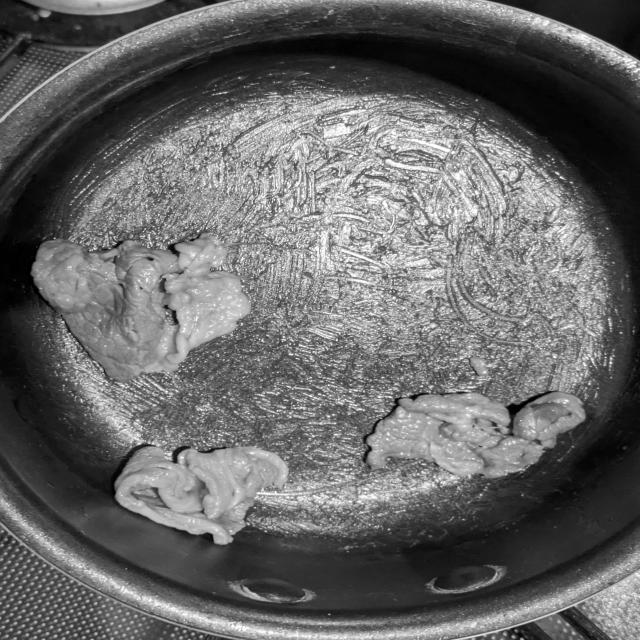OK undercooked beef,: (20, 221, 260, 390), (344, 385, 602, 485), (103, 434, 310, 556)
